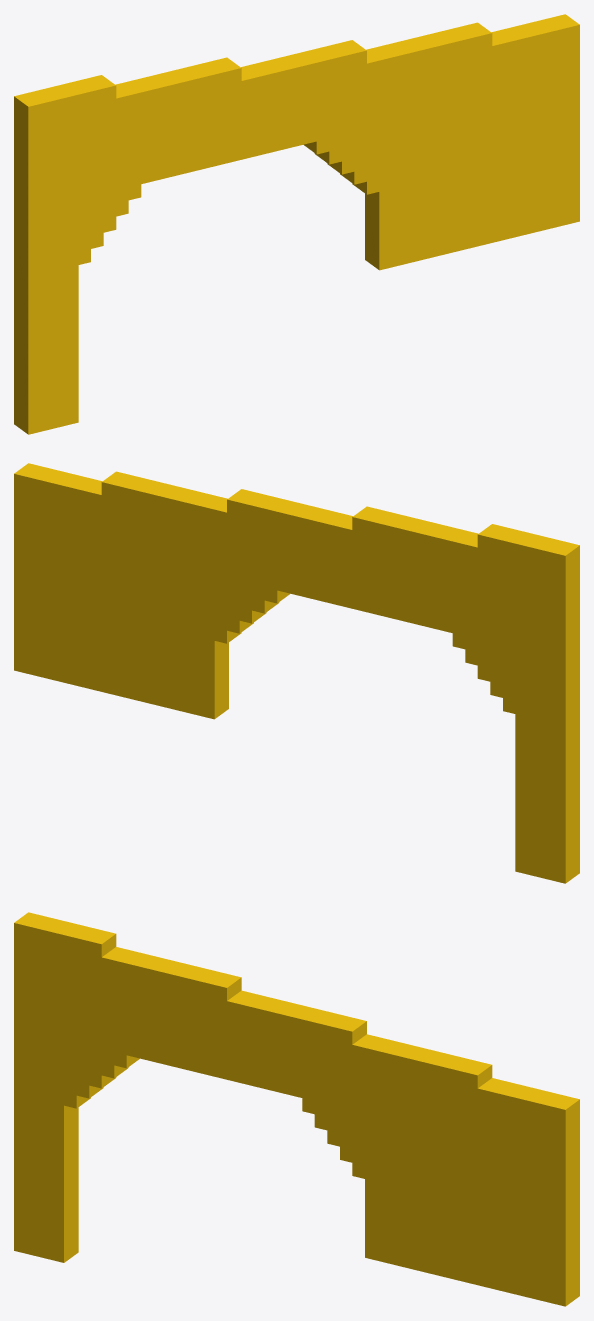
File: taxi_front_wing.glb
The picture shows the model from 3 angles, top to bottom: view 1: azimuth 30°, elevation 25°; view 2: azimuth 150°, elevation 25°; view 3: azimuth 330°, elevation 25°; orthographic projection.
Visible parts, largest first — view 1: body:compound; view 2: body:compound; view 3: body:compound.
Boxes of the visible parts, x1=… form: body:compound: x1=14, y1=14, x2=579, y2=434; body:compound: x1=14, y1=463, x2=579, y2=883; body:compound: x1=14, y1=912, x2=579, y2=1306.
Bounding box in the file's own units: 1.38 × 0.7812 × 0.0625.
